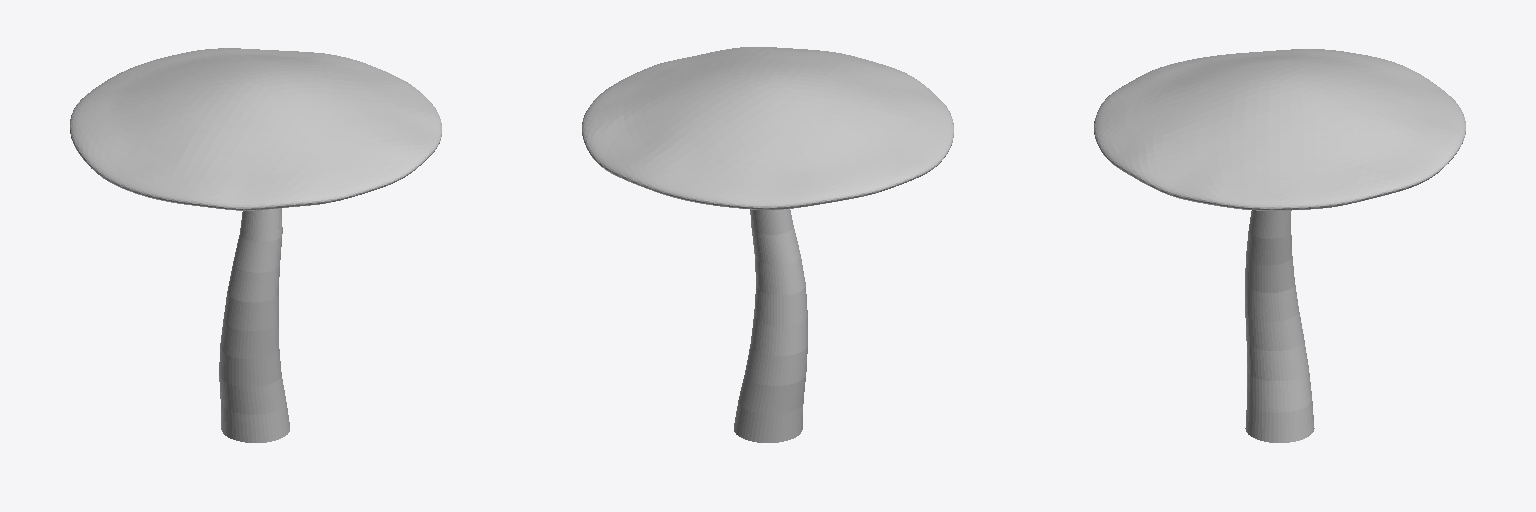
Rendered from Mushroom_wavy.obj.
3 views of the same model, side by side, from view 1: azimuth 30°, elevation 25°; view 2: azimuth 150°, elevation 25°; view 3: azimuth 270°, elevation 25° (orthographic).
Visible parts, largest first — view 1: Icosphere_Icosphere.001, Cone; view 2: Icosphere_Icosphere.001, Cone; view 3: Icosphere_Icosphere.001, Cone.
Boxes of the visible parts, <box> form: Icosphere_Icosphere.001: <box>70,48,441,210</box>; Cone: <box>219,208,289,442</box>; Icosphere_Icosphere.001: <box>582,47,953,209</box>; Cone: <box>734,209,807,442</box>; Icosphere_Icosphere.001: <box>1094,49,1465,210</box>; Cone: <box>1245,210,1314,442</box>.
Bounding box in the file's own units: 5.4 × 5.52 × 5.4.